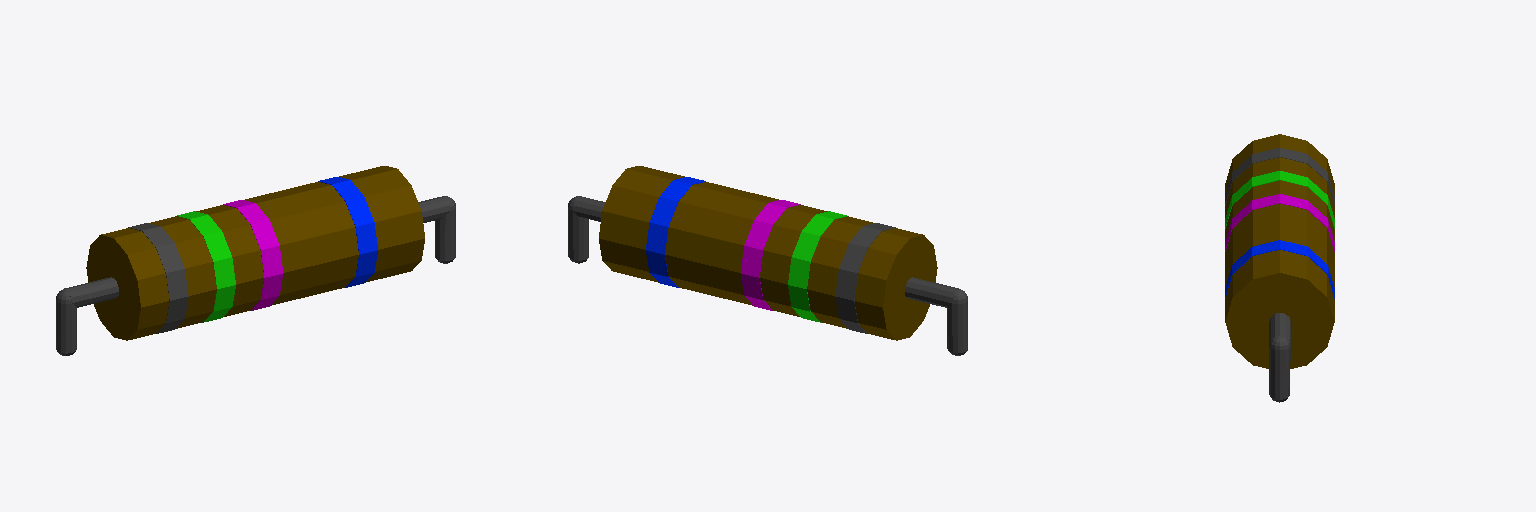
The model's file is resistor_B.obj.
3 renders of one model, left to right at view 1: azimuth 30°, elevation 25°; view 2: azimuth 150°, elevation 25°; view 3: azimuth 270°, elevation 25°, orthographic.
Parts seen in each view (by area): view 1: mesh01, cylinder01, cylinder02, cylinder03, mesh03, mesh02; view 2: mesh01, cylinder01, cylinder02, cylinder03, mesh03, mesh02; view 3: mesh01, mesh02, cylinder01, cylinder03, cylinder02.
Boxes of the visible parts, x1=… form: mesh01: x1=64, y1=166, x2=450, y2=340; cylinder01: x1=223, y1=200, x2=282, y2=310; cylinder02: x1=177, y1=211, x2=235, y2=322; cylinder03: x1=318, y1=177, x2=377, y2=287; mesh03: x1=56, y1=289, x2=76, y2=355; mesh02: x1=435, y1=196, x2=455, y2=263; mesh01: x1=573, y1=166, x2=958, y2=340; cylinder01: x1=741, y1=200, x2=800, y2=310; cylinder02: x1=788, y1=211, x2=846, y2=322; cylinder03: x1=646, y1=177, x2=705, y2=287; mesh03: x1=947, y1=289, x2=967, y2=355; mesh02: x1=568, y1=196, x2=588, y2=263; mesh01: x1=1225, y1=134, x2=1334, y2=368; mesh02: x1=1269, y1=336, x2=1290, y2=402; cylinder01: x1=1225, y1=194, x2=1334, y2=251; cylinder03: x1=1225, y1=240, x2=1334, y2=298; cylinder02: x1=1225, y1=171, x2=1334, y2=228.
Bounding box in the file's own units: 4.2 × 1.07 × 1.01.